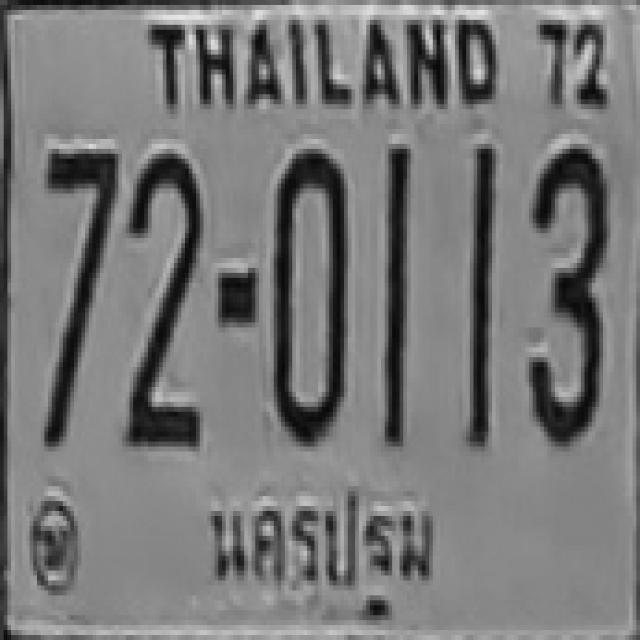0: (270, 146, 344, 439)
1: (468, 142, 494, 410), (383, 144, 409, 407), (470, 142, 492, 384)
2: (122, 191, 200, 444), (126, 152, 200, 410)
3: (525, 141, 607, 439)
7: (39, 146, 116, 444), (44, 148, 119, 432), (44, 146, 119, 360), (44, 146, 119, 325)
NakhonPathom: (201, 483, 444, 634)
